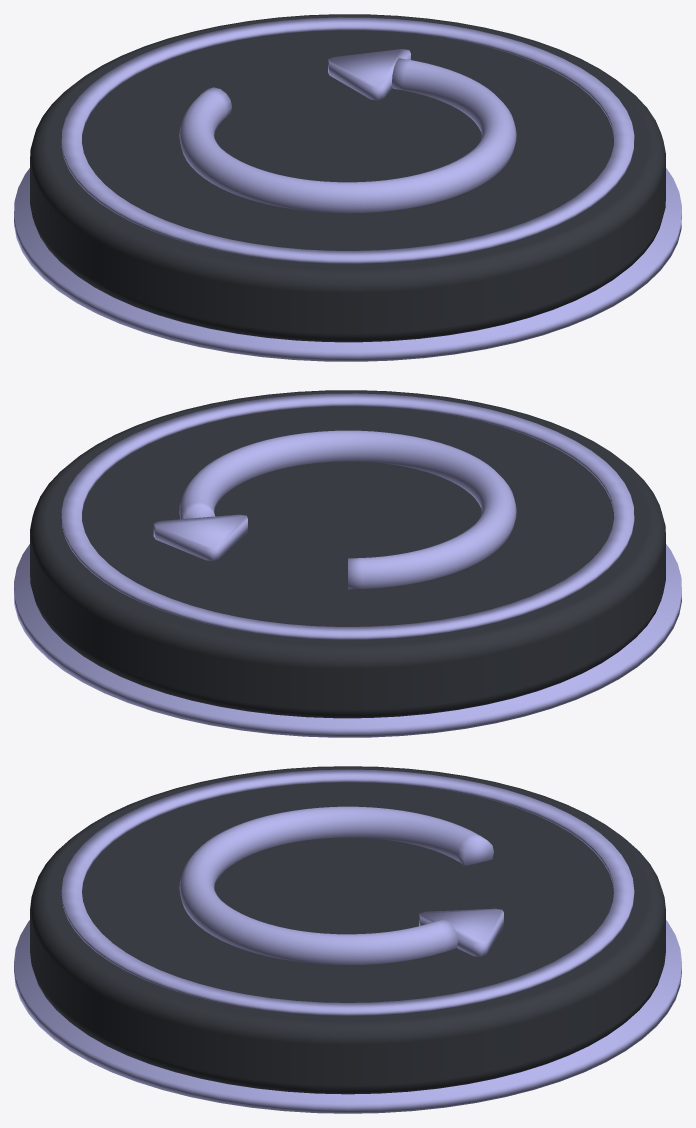
Rendered from loop.glb.
3 views of the same model, one above another, from view 1: azimuth 30°, elevation 25°; view 2: azimuth 150°, elevation 25°; view 3: azimuth 270°, elevation 25° (orthographic).
Parts seen in each view (by area): view 1: module, edge, loop, rim, loop-head; view 2: module, edge, loop, rim, loop-head; view 3: module, edge, loop, rim, loop-head.
Boxes of the visible parts, x1,y1,x2,y2 form: module: (30, 14, 665, 342); edge: (61, 17, 634, 263); loop: (179, 58, 516, 213); rim: (14, 168, 681, 361); loop-head: (328, 49, 410, 100); module: (30, 390, 665, 718); edge: (61, 393, 634, 639); loop: (179, 430, 516, 589); rim: (14, 544, 681, 737); loop-head: (153, 514, 247, 561); module: (30, 766, 665, 1094); edge: (61, 769, 634, 1015); loop: (179, 806, 493, 965); rim: (14, 920, 681, 1113); loop-head: (419, 908, 503, 956).
Size of the model in its own units: 0.84 by 0.1394 by 0.84.
